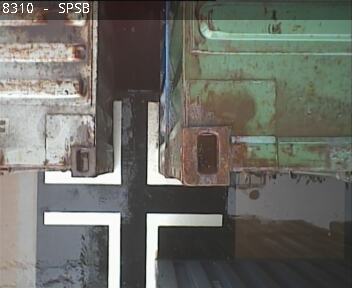groundmarker_1: (43, 212, 222, 288), (44, 100, 178, 185)
